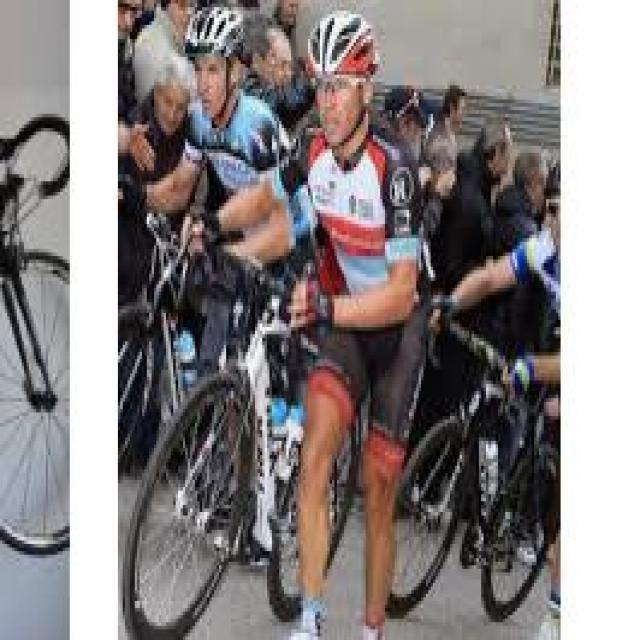bicycle: (268, 267, 460, 640), (126, 257, 304, 640), (392, 321, 555, 627), (1, 129, 71, 552), (473, 360, 562, 627)
